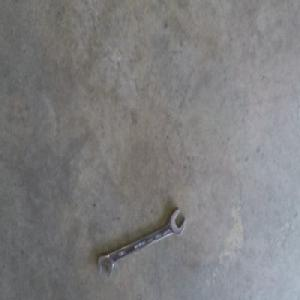Wrench: (97, 207, 186, 276)
